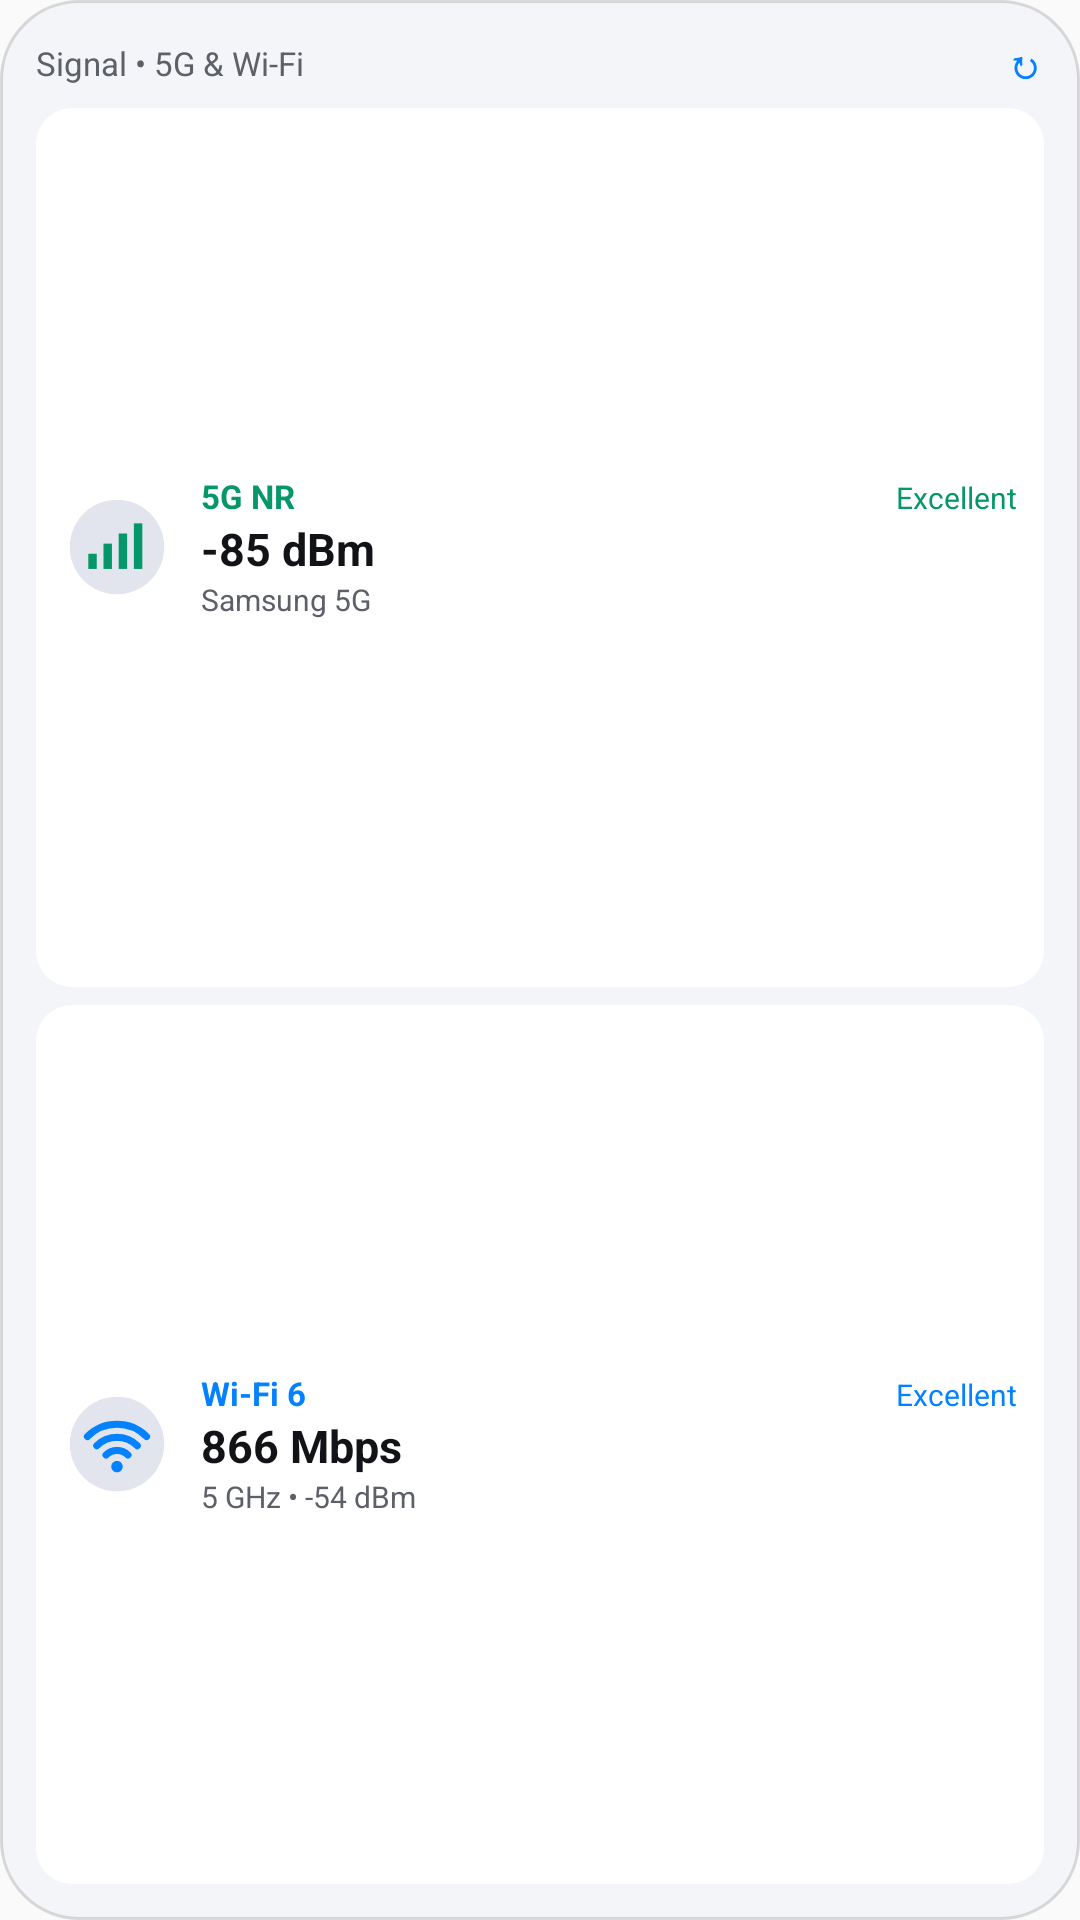

Where icons sit on this 1080 x 1920 app screen, as (x1, y1, x2, y2):
Mobile Network: (70, 500, 164, 594)
Wi-Fi Network: (70, 1397, 164, 1491)
